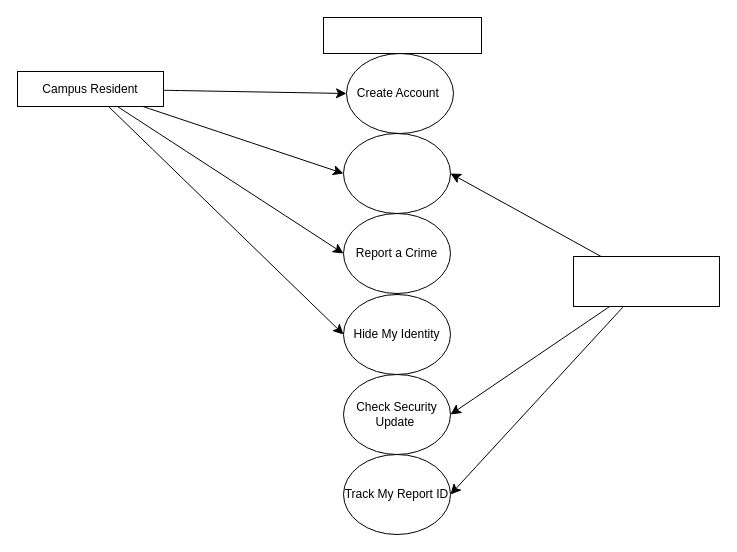
The diagram is 737 pixels wide and 552 high, and some of its shapes have lost their labels. The shapes that lost their labels are listed below. From the top down, each one's centre as x and y in pixels, then its label:
At pixel 402 35: "SIM Security Website".
At pixel 396 173: "Log In".
At pixel 646 281: "Security Team".
